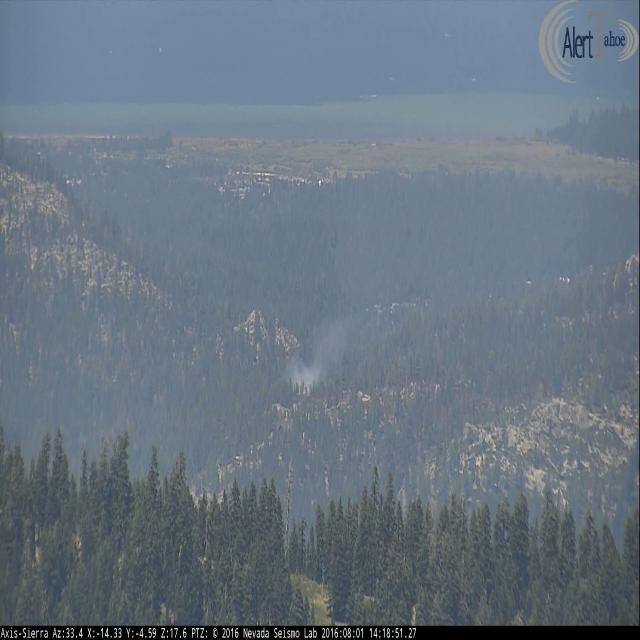smoke: (285, 320, 345, 398)
